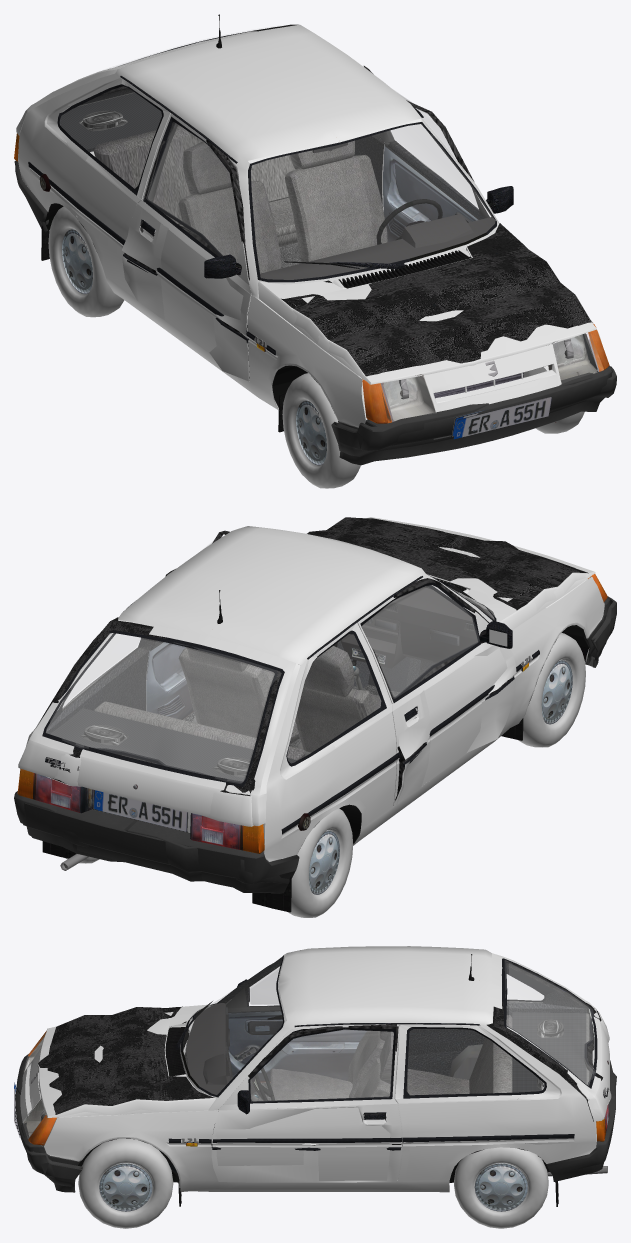
The model's file is uploads_files_2791592_Zaz1102.fbx.
3 views of the same model, one above another, from view 1: azimuth 30°, elevation 25°; view 2: azimuth 150°, elevation 25°; view 3: azimuth 270°, elevation 25° (orthographic). The views are drawn at different scales.
Visible parts, largest first — view 1: chassis, salon, bonnet_dam, windscreen_ok, door_rf_dam, door_rf_ok, bump_front_ok, door_lf_dam, bonnet_ok, Quad_WheelFrontRight, Quad_WheelBackRight, bump_front_dam (+6 smaller); view 2: chassis, salon, boot_dam, boot_ok, door_rf_dam, door_rf_ok, bonnet_dam, bump_rear_ok, Quad_WheelBackRight, Quad_WheelFrontRight, fari_zad, bump_rear_dam (+6 smaller); view 3: chassis, salon, door_lf_dam, bonnet_dam, door_lf_ok, boot_dam, Quad_WheelFrontLeft, Quad_WheelBackLeft, windscreen_ok, door_rf_dam, boot_ok, bonnet_ok (+7 smaller).
Boxes of the visible parts, x1,y1,x2,y2 form: chassis: (18, 14, 603, 427); salon: (60, 92, 495, 392); bonnet_dam: (281, 223, 591, 378); windscreen_ok: (251, 124, 494, 279); door_rf_dam: (122, 121, 250, 381); door_rf_ok: (137, 113, 251, 380); bump_front_ok: (338, 365, 611, 461); door_lf_dam: (363, 66, 513, 242); bonnet_ok: (258, 223, 596, 384); Quad_WheelFrontRight: (282, 373, 360, 488); Quad_WheelBackRight: (48, 206, 124, 317); bump_front_dam: (331, 366, 616, 465); chassis: (46, 526, 604, 861); salon: (50, 587, 494, 781); boot_dam: (39, 617, 281, 826); boot_ok: (18, 620, 300, 825); door_rf_dam: (353, 578, 516, 804); door_rf_ok: (357, 580, 512, 806); bonnet_dam: (307, 517, 588, 611); bump_rear_ok: (23, 803, 299, 889); Quad_WheelBackRight: (288, 808, 353, 917); Quad_WheelFrontRight: (518, 633, 585, 747); fari_zad: (17, 768, 264, 853); bump_rear_dam: (14, 791, 289, 893); chassis: (20, 946, 596, 1192); salon: (184, 1003, 589, 1156); door_lf_dam: (211, 1024, 401, 1182); bonnet_dam: (37, 1006, 214, 1117); door_lf_ok: (212, 1024, 402, 1180); boot_dam: (487, 960, 611, 1121); Quad_WheelFrontLeft: (78, 1138, 173, 1228); Quad_WheelBackLeft: (454, 1147, 548, 1228); windscreen_ok: (183, 958, 282, 1094); door_rf_dam: (225, 956, 366, 1082); boot_ok: (492, 953, 609, 1119); bonnet_ok: (38, 1004, 215, 1117).
Bounding box in the file's own units: 193 × 169 × 406.
